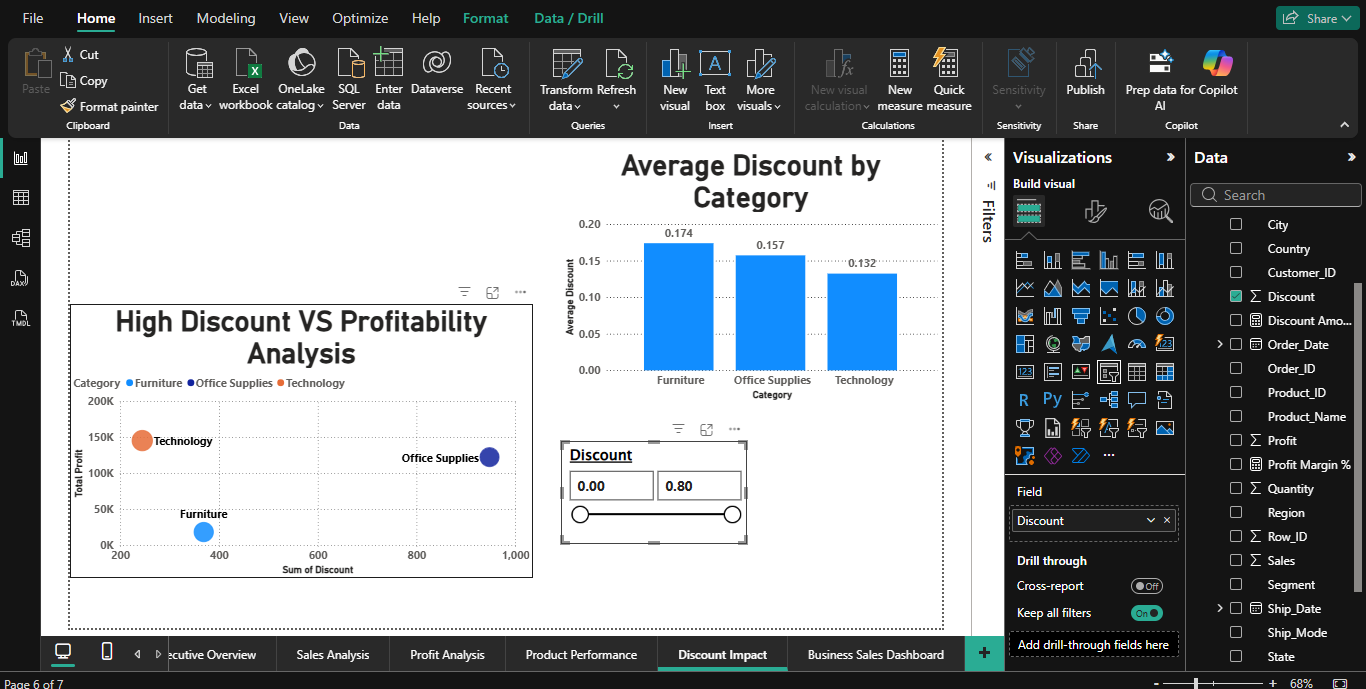

What the dashboard file says about the page in this screenshot:
{"tool":"powerbi","page":{"name":"Discount Impact","canvas":[1280,720],"ordinal":5},"visuals":[{"type":"scatterChart","title":"Impact of discount on profit by category","fields":{"Y":["Sample_ Superstore.Total Profit"],"Size":["Sample_ Superstore.Total sales"],"X":["Sum(Sample_ Superstore.Discount)"],"Series":["Sample_ Superstore.Category"]},"box":[0,243.9,680.3,402.6],"z":0},{"type":"clusteredColumnChart","fields":{"Category":["Sample_ Superstore.Category"],"Y":["Sample_ Superstore.Average Discount"]},"box":[721.5,14.7,558.4,374.7],"z":1000},{"type":"slicer","fields":{"Values":["Sample_ Superstore.Discount"]},"box":[122,89.6,274,152],"z":2000}]}

Visuals, with their boxes on the page's 1280x720 design canvas (x1, y1, x2, y2). These are canvas units, not pixel positions in the 1366x689 screenshot, which may show the page scaled, cropped or inside an application window:
"Impact of discount on profit by category" scatterChart: rect(0, 244, 680, 646)
clusteredColumnChart - Sample_ Superstore.Category x Sample_ Superstore.Average Discount: rect(722, 15, 1280, 389)
slicer - Sample_ Superstore.Discount: rect(122, 90, 396, 242)
